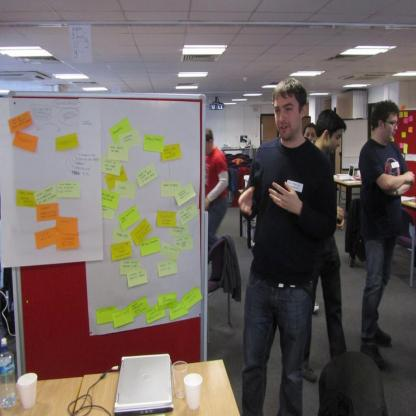board: (116, 352, 176, 412), (0, 338, 15, 410), (14, 372, 39, 410), (172, 359, 188, 400), (186, 373, 202, 408), (339, 164, 354, 181)
